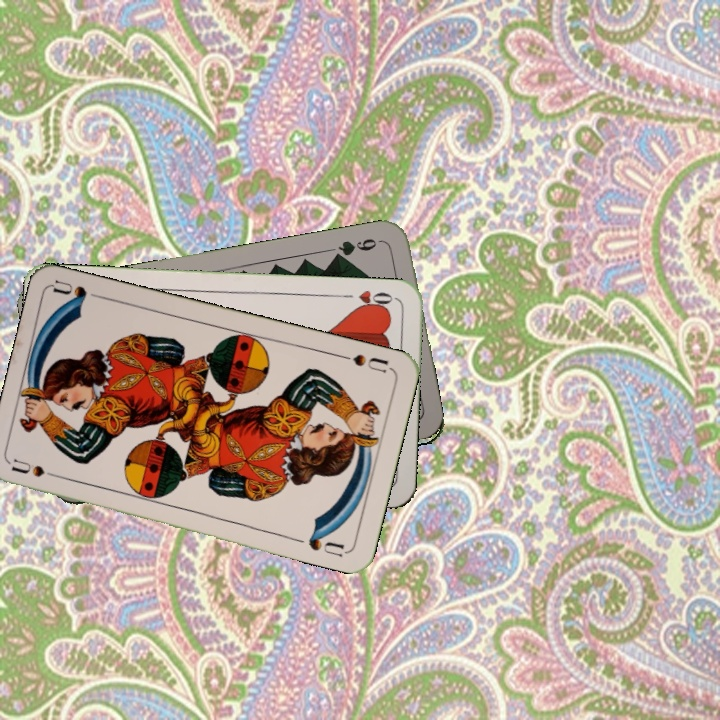G9: (329, 234, 386, 263)
HO: (338, 286, 398, 313)
SU: (8, 454, 68, 483), (335, 350, 394, 376)
